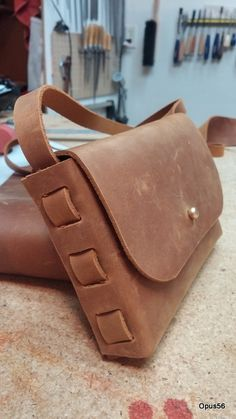cuero: (2, 88, 236, 361)
